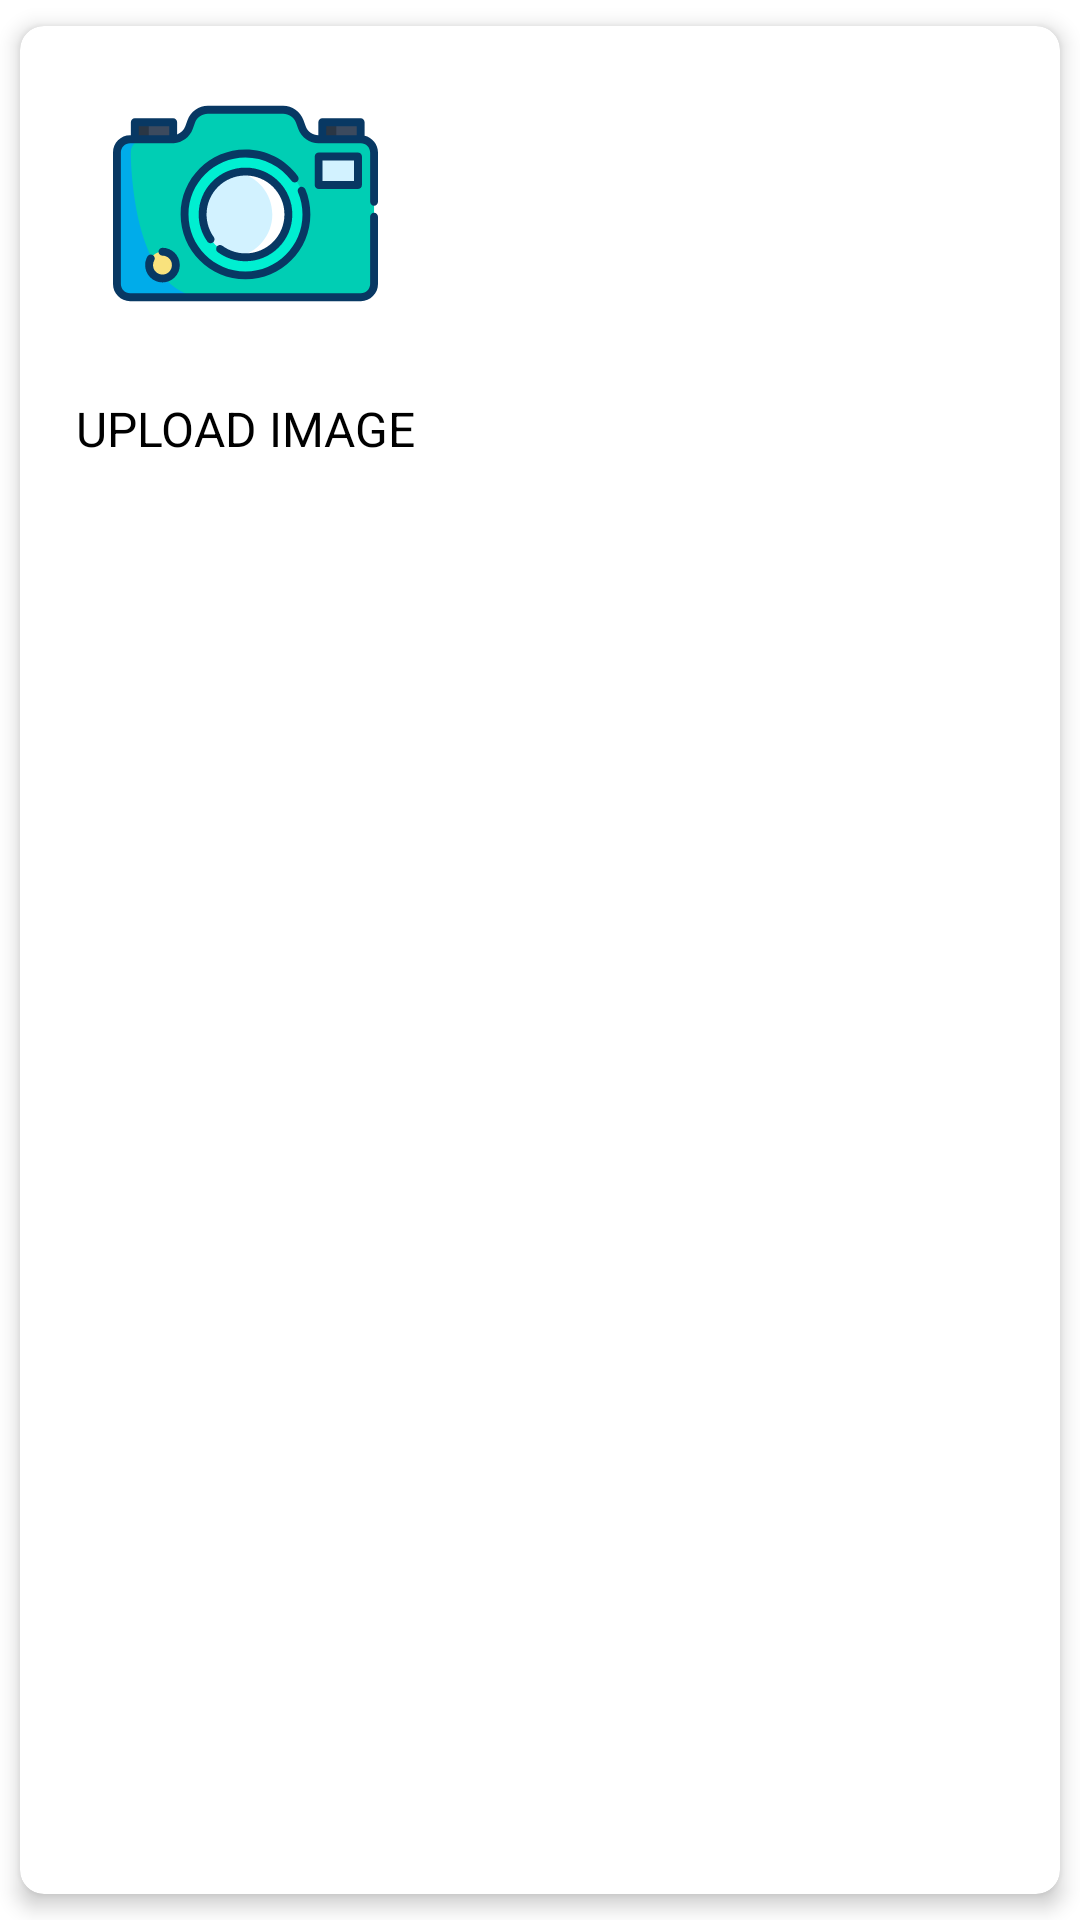

Locate icon controls on the screen. Image size 1080*1920, boxes as (left=x1, top=y1, right=x2, bottom=y2).
camera: (left=34, top=26, right=378, bottom=302)
